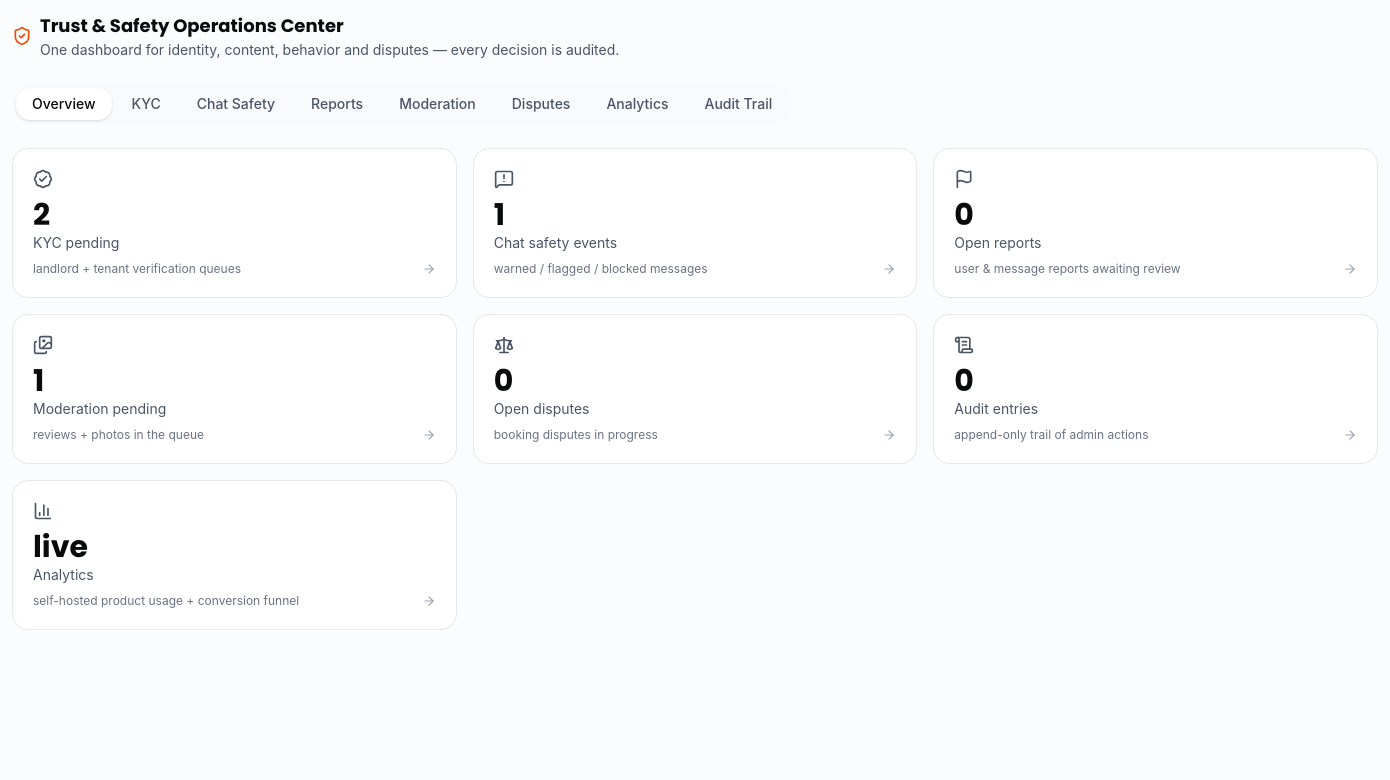
Scenario: AdminTrustCenter › opens the chat safety feed from the sub-tabs
The width and height of the screenshot is (1390, 780).
Step 1. Click the button "Chat Safety" → (236, 104), box [181,88,291,120]
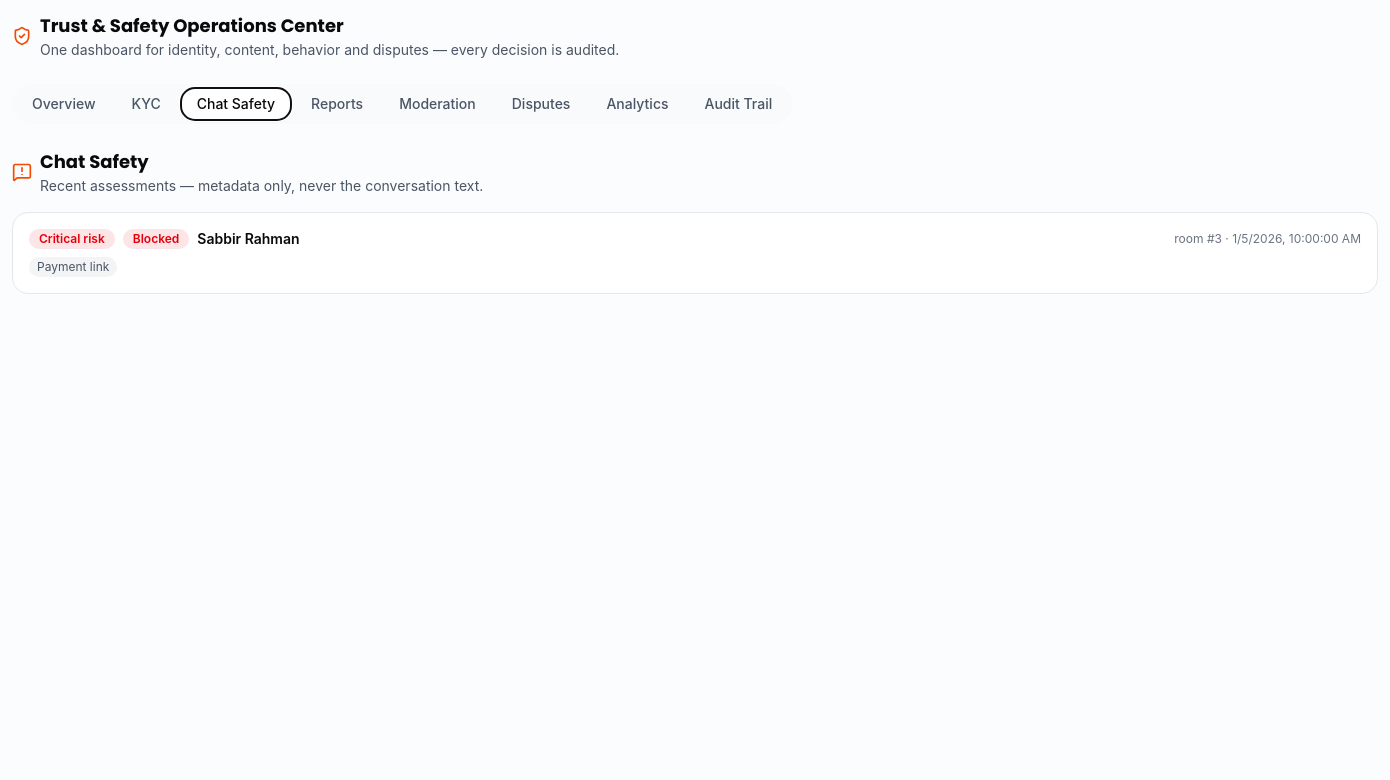
Expected: the text "Blocked" is shown, [123,229,189,249]
Now the text "Critical risk" is shown, box [29,229,115,249]
Now the text "Payment link" is shown, box [29,257,117,277]
